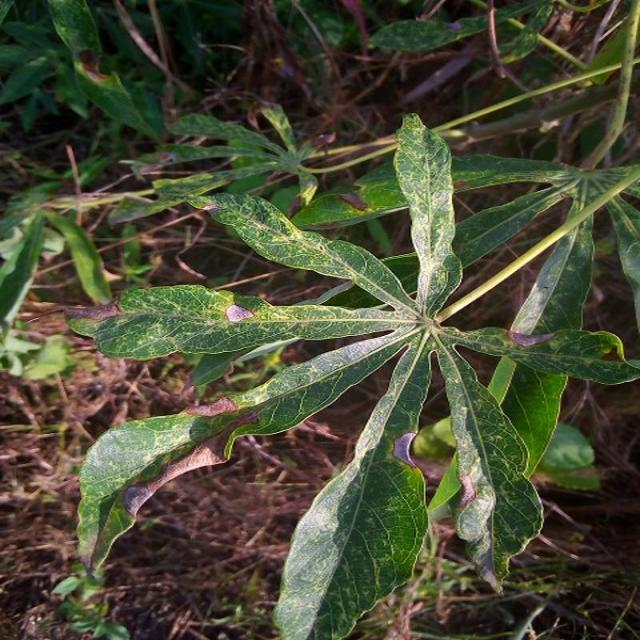cassava leaf: (65, 111, 638, 638), (271, 334, 432, 638)
